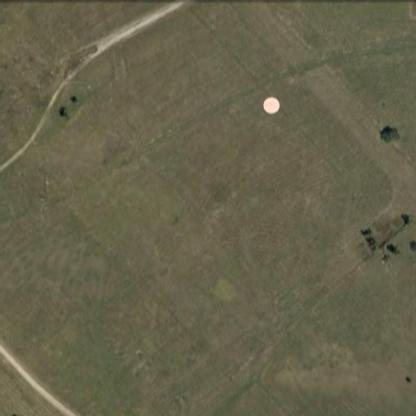I: (264, 101, 274, 108)
circle: (263, 96, 281, 116)
